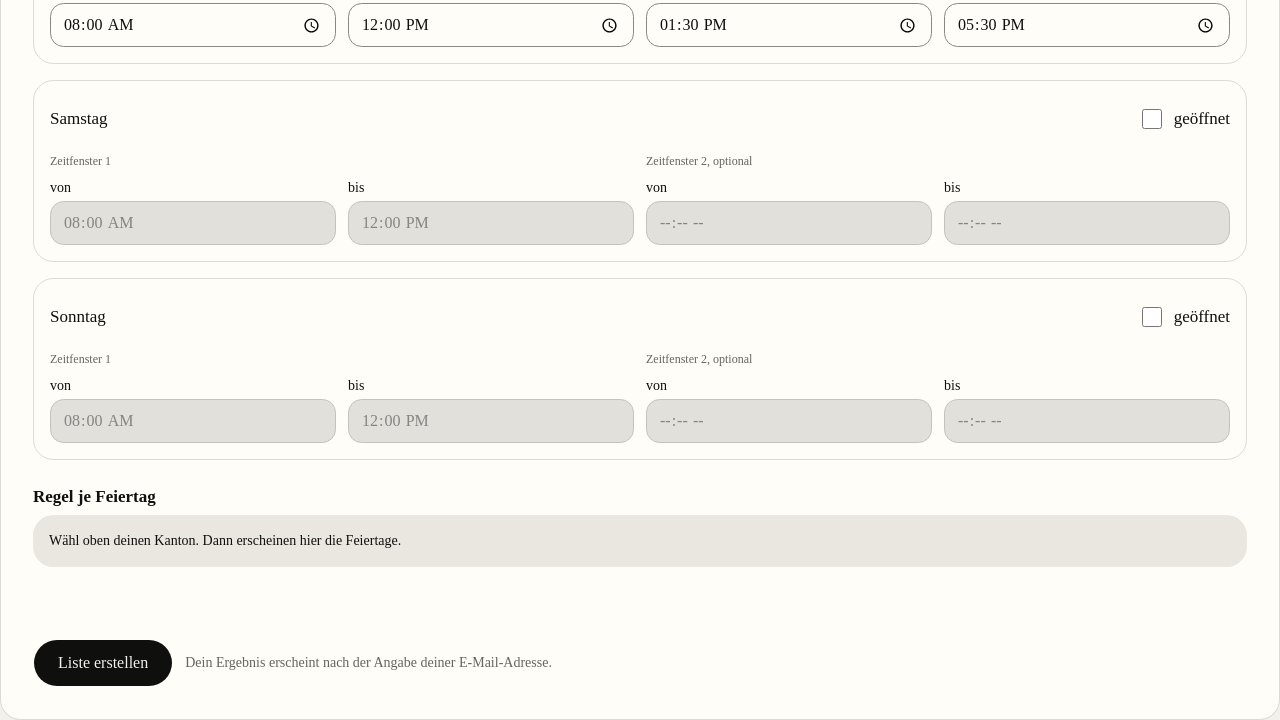
Test case: Feiertagsplaner: Formular › sagt ohne Kanton, was zu tun ist, und fragt vor dem Ergebnis danach
(page scrolled)
Check: the text "Wähl oben deinen Kanton. Dann erscheinen hier die Feiertage." is shown, box [33, 514, 1247, 566]
Click the button "Liste erstellen" at (103, 662), box [33, 638, 173, 686]
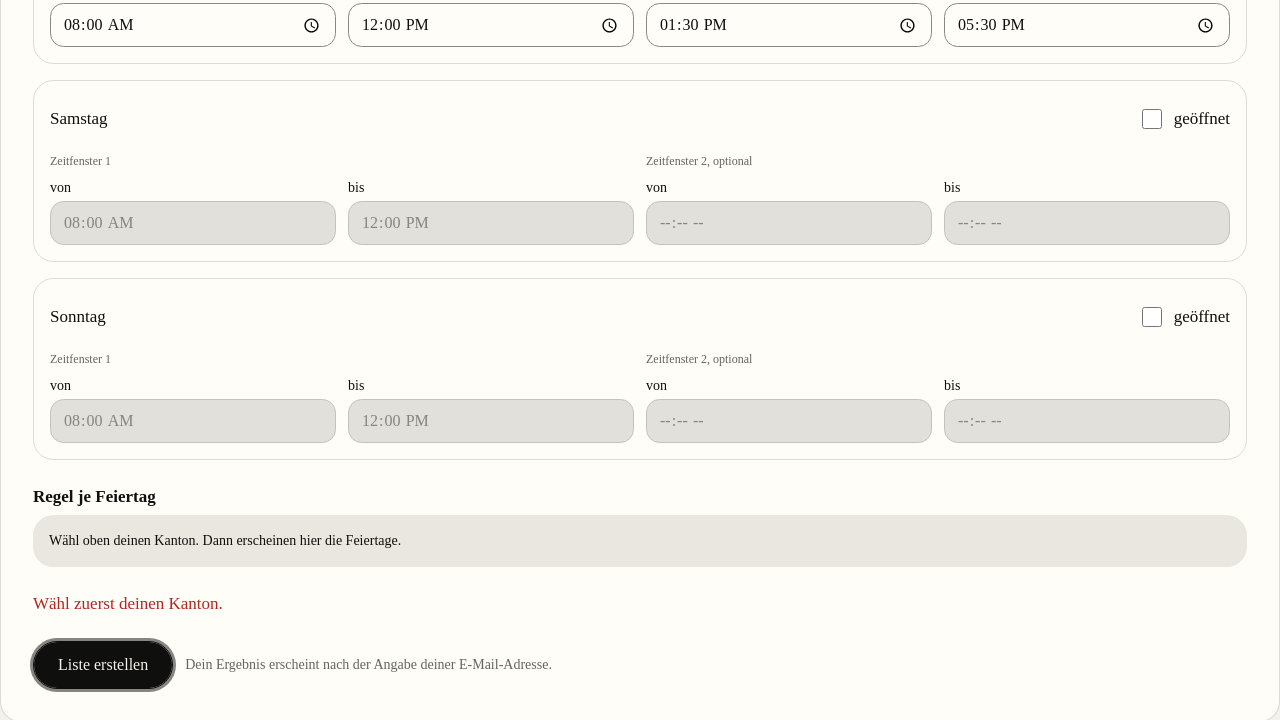
Check: the text "Wähl zuerst deinen Kanton." is shown, box [33, 594, 223, 612]
